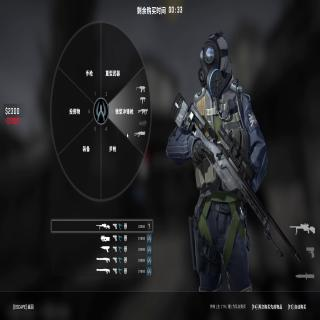CT-Head: (198, 33, 230, 92)
